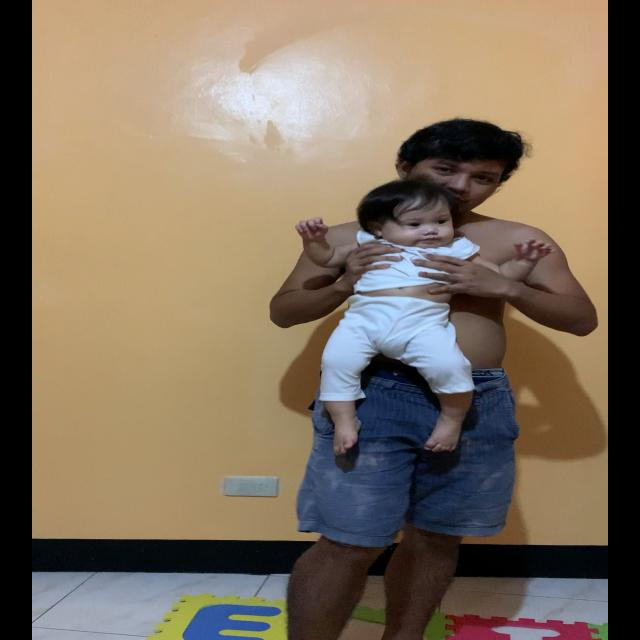adult: (267, 117, 602, 640)
child: (294, 175, 558, 458)
